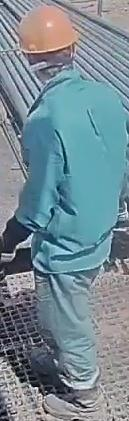helmet: (17, 5, 79, 58)
vest: (20, 70, 128, 273)
